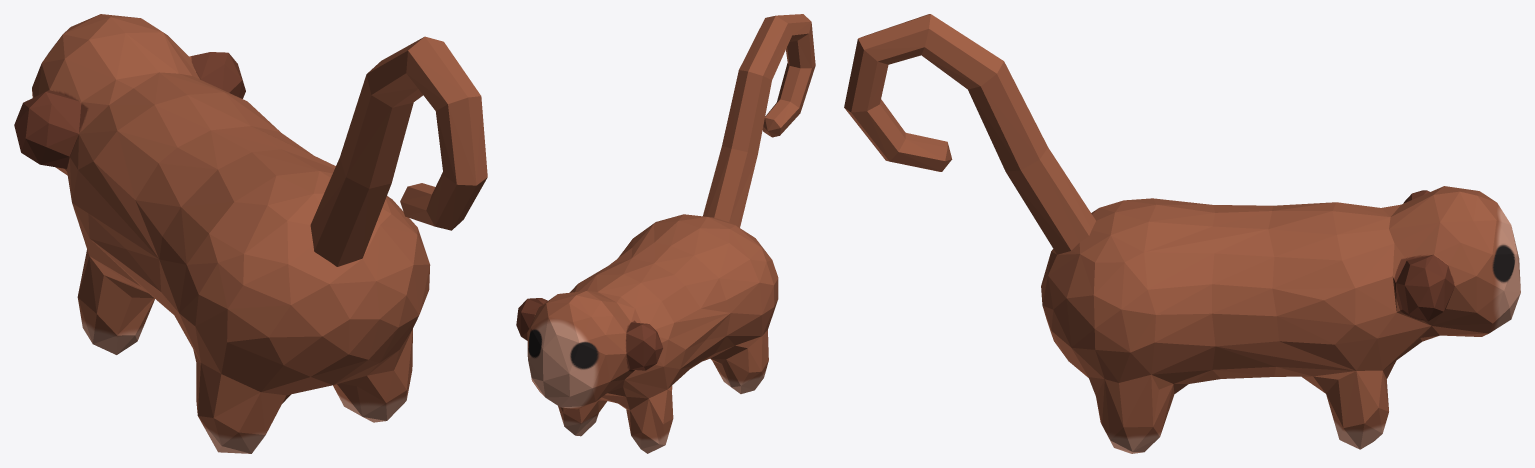
Rendered from animal_monkey_blob.obj.
The picture shows the model from 3 angles, left to right: view 1: azimuth 30°, elevation 25°; view 2: azimuth 150°, elevation 25°; view 3: azimuth 270°, elevation 25°; orthographic projection. The views are drawn at different scales.
Parts seen in each view (by area): view 1: animal_monkey_blob; view 2: animal_monkey_blob; view 3: animal_monkey_blob.
Part boxes in pixels (x1,y1,x2,y2): animal_monkey_blob: (14,14,487,453); animal_monkey_blob: (516,14,815,453); animal_monkey_blob: (844,14,1520,453).
Size of the model in its own units: 0.2981 by 0.6142 by 0.9145.
